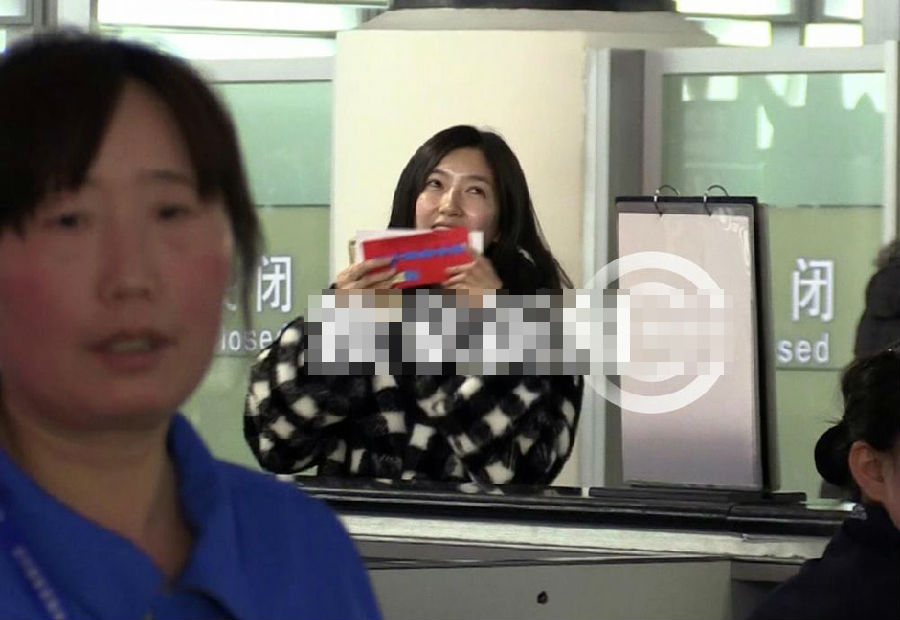face: (1, 100, 233, 415), (418, 148, 494, 254)
